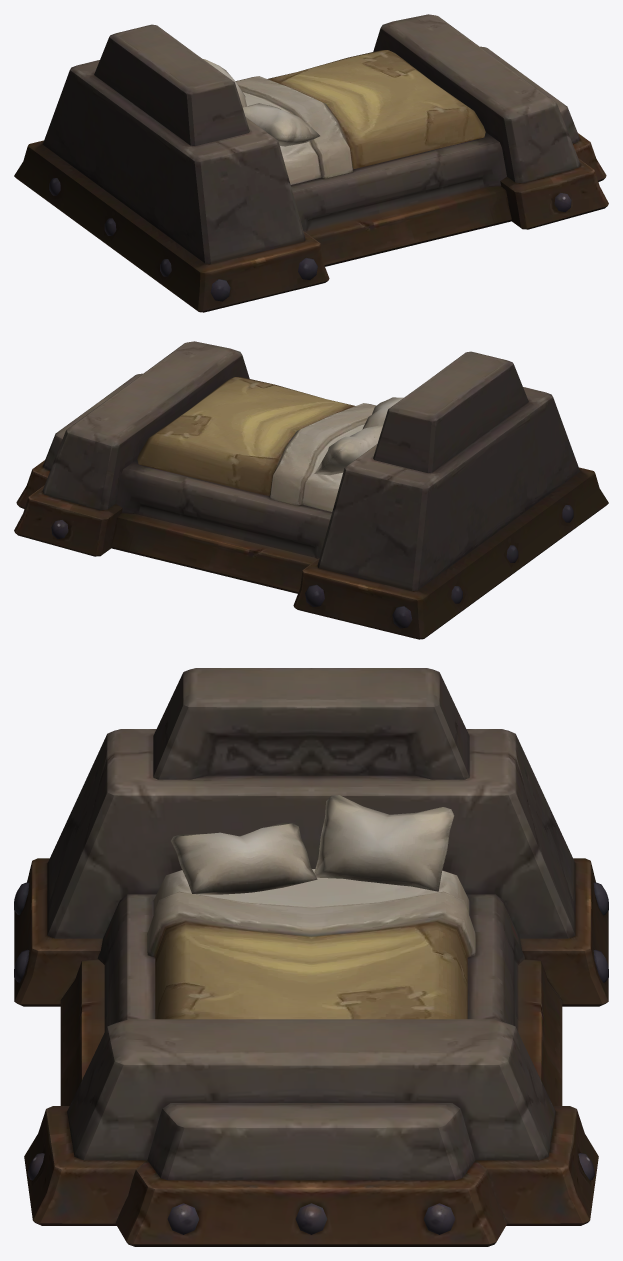
The picture shows the model from 3 angles, top to bottom: view 1: azimuth 30°, elevation 25°; view 2: azimuth 150°, elevation 25°; view 3: azimuth 270°, elevation 25°; orthographic projection. The views are drawn at different scales.
Size of the model in its own units: 5.91 by 2.19 by 4.33.
Materials: 2 (2 with a texture image).
